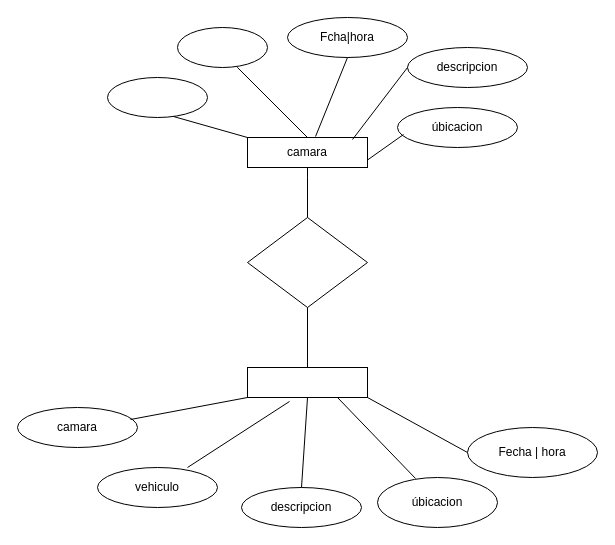
The diagram is 615 pixels wide and 545 high, and some of its shapes have lost their labels. The shapes that lost their labels are listed below. From the top down, each one's centre as x and y in pixels, then its label:
the point at 222,47: id camara
the point at 157,97: medelo
the point at 307,262: detecta vehiculo
the point at 307,382: registro
